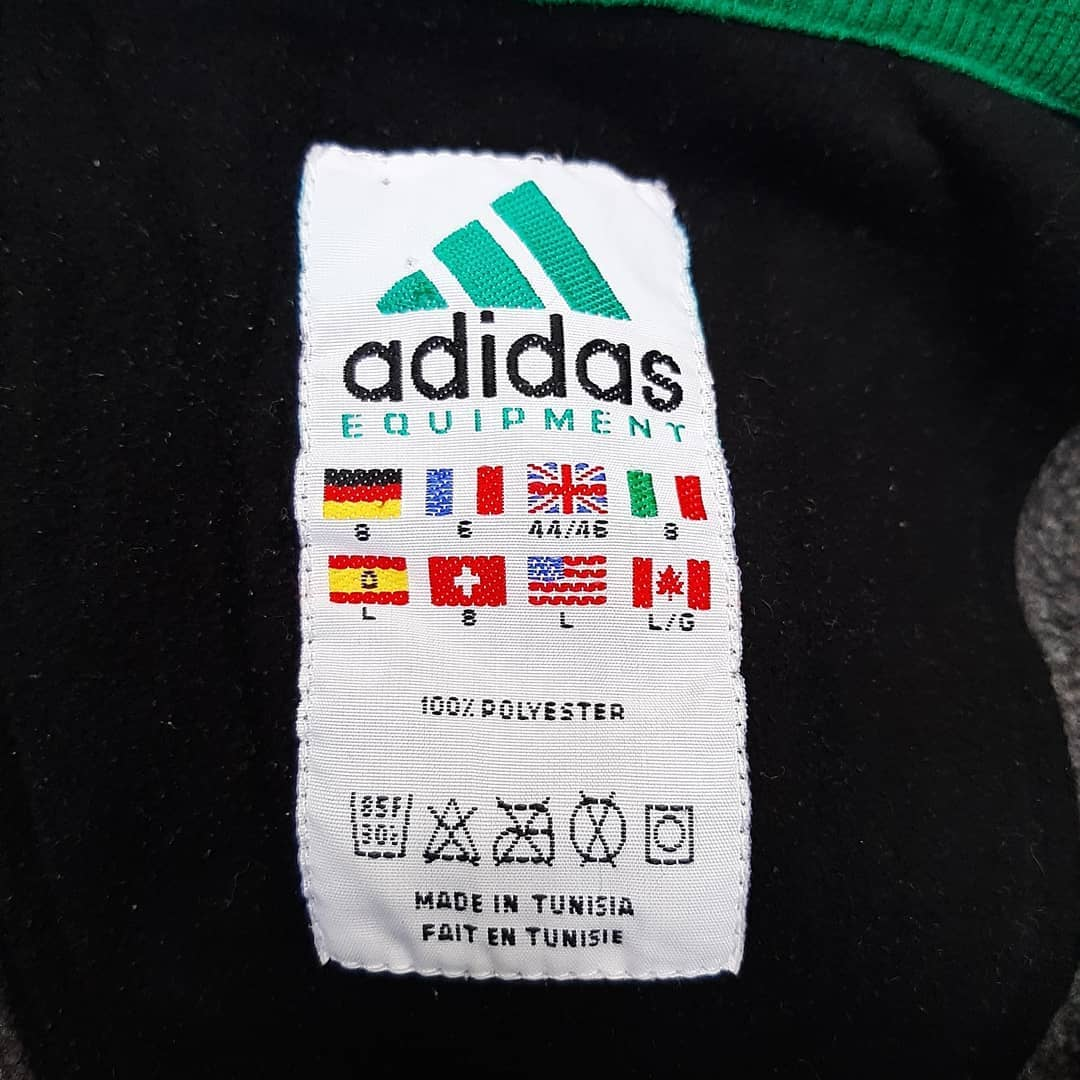adidas_1: (321, 142, 696, 441)
